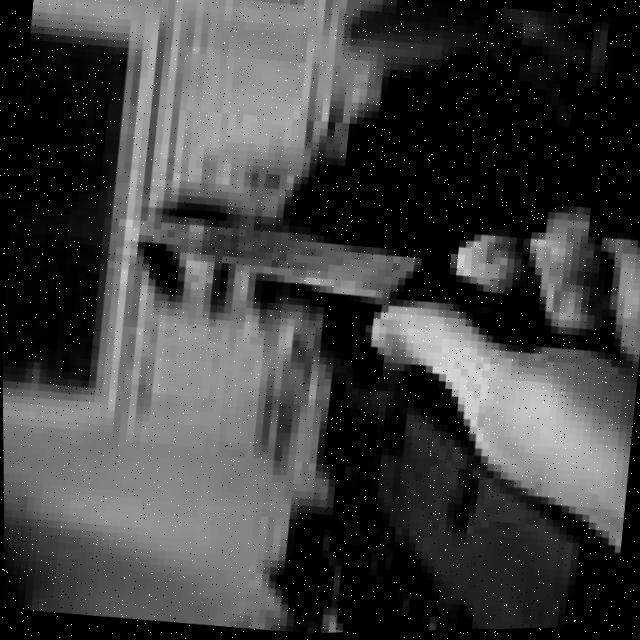knife: (106, 201, 565, 358)
